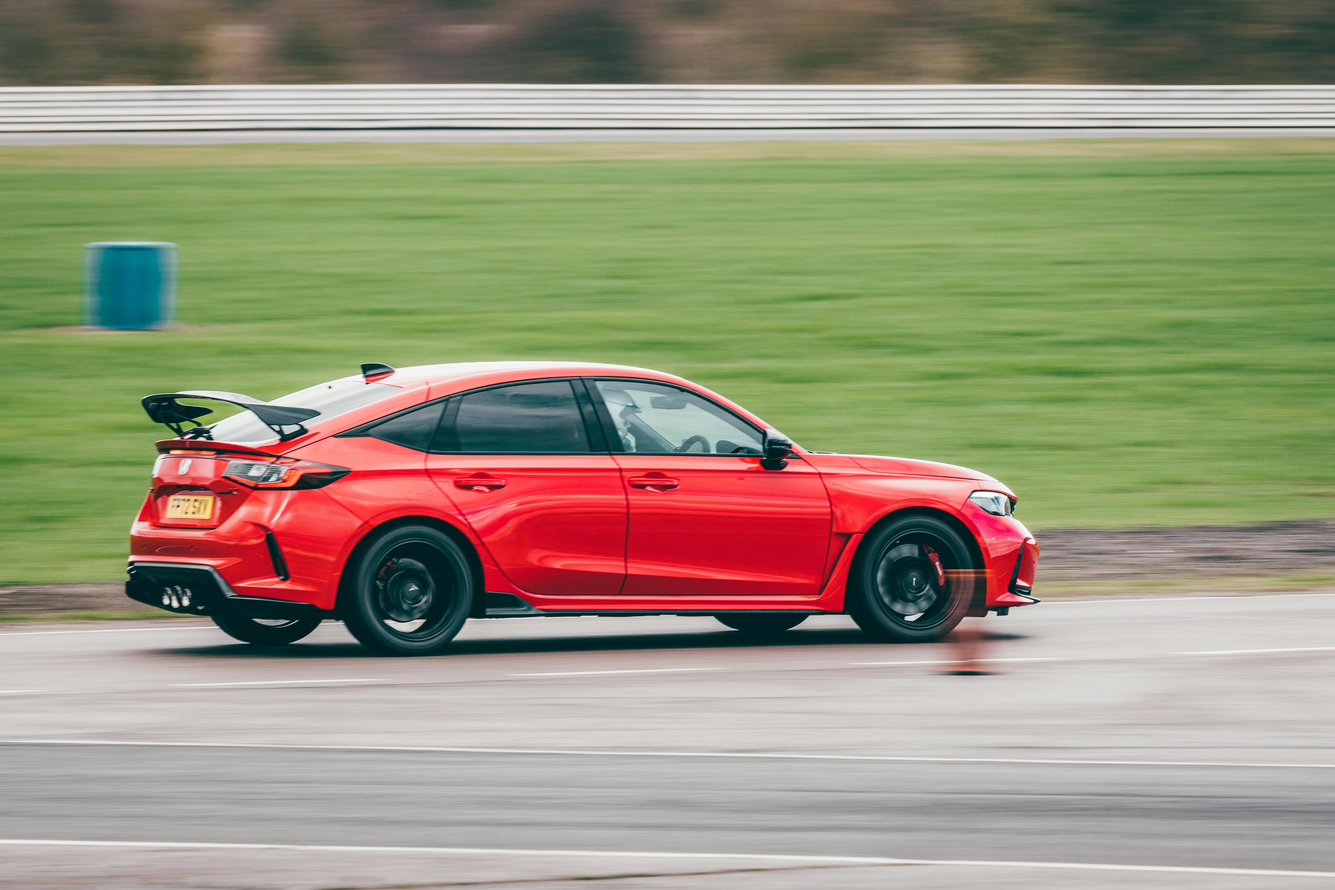other: (129, 359, 1049, 650)
